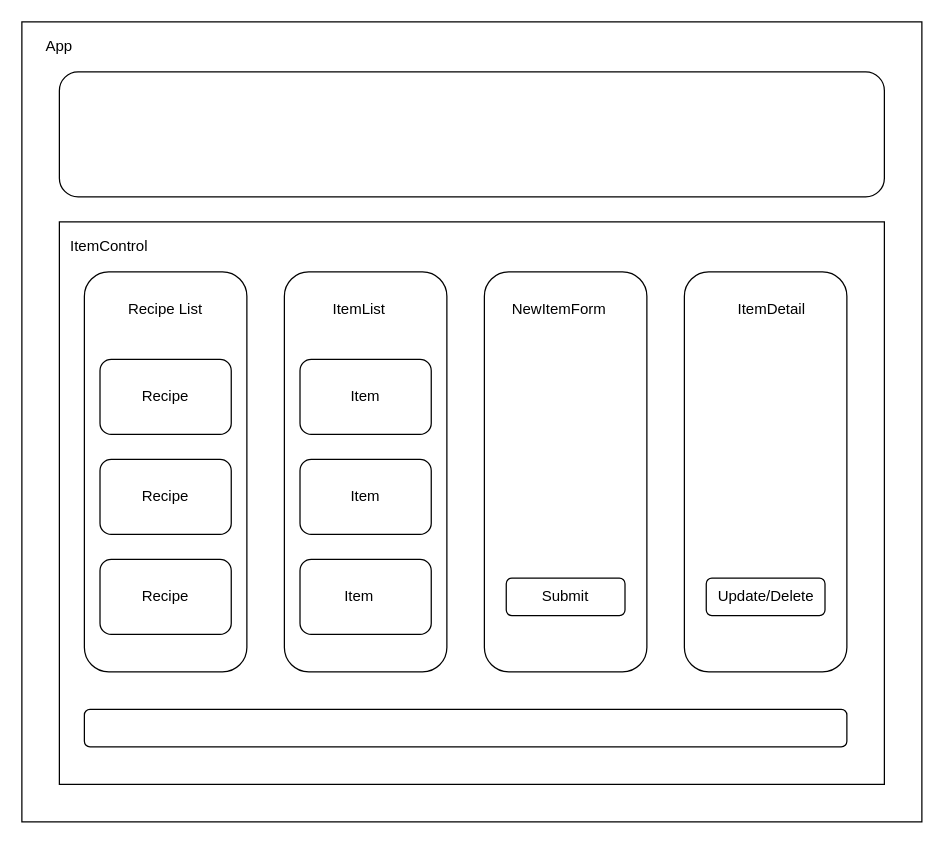
The diagram is 944 pixels wide and 844 high, and some of its shapes have lost their labels. Each missing label, with the centre of its shape:
"Add Item" goes at (465,727).
"Header" goes at (471,134).
